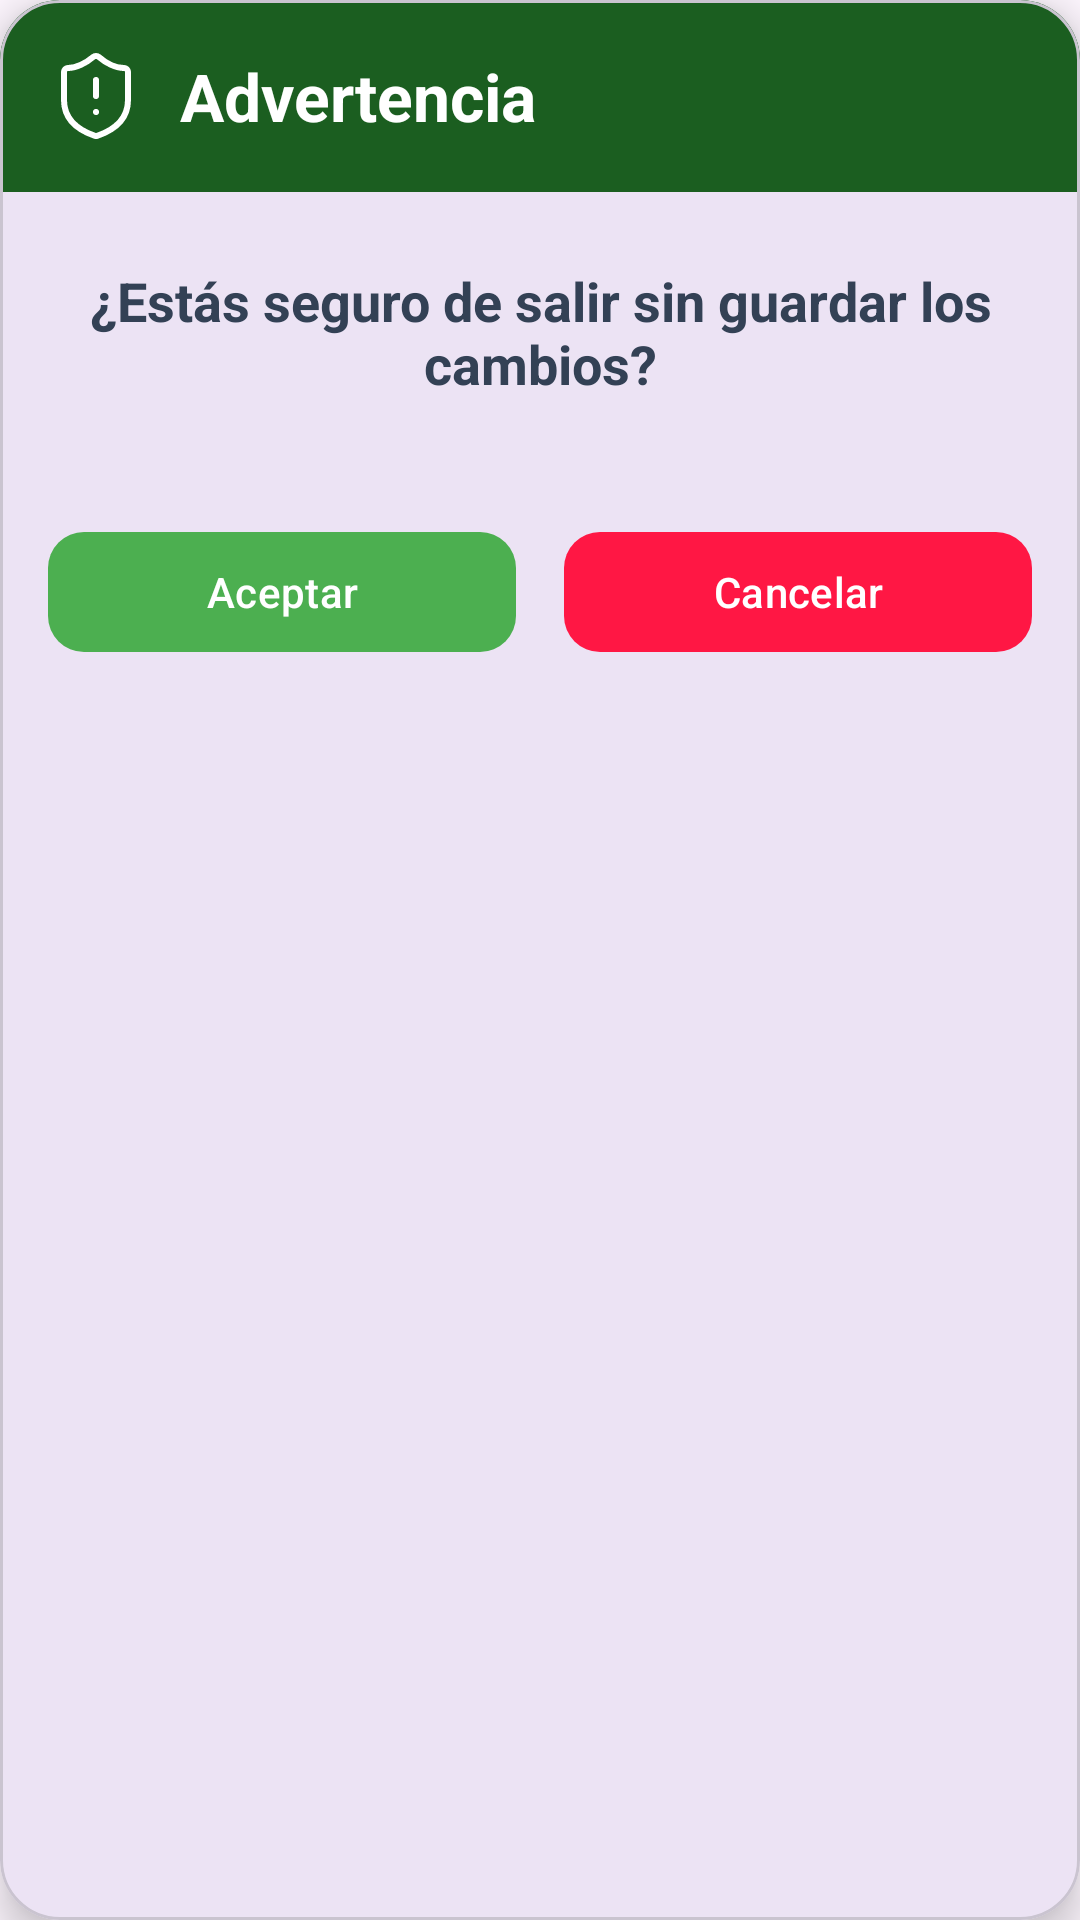

Screen size 1080 x 1920. Icon name, then its center in pixels as [x,y]:
alerta: [96,96]
